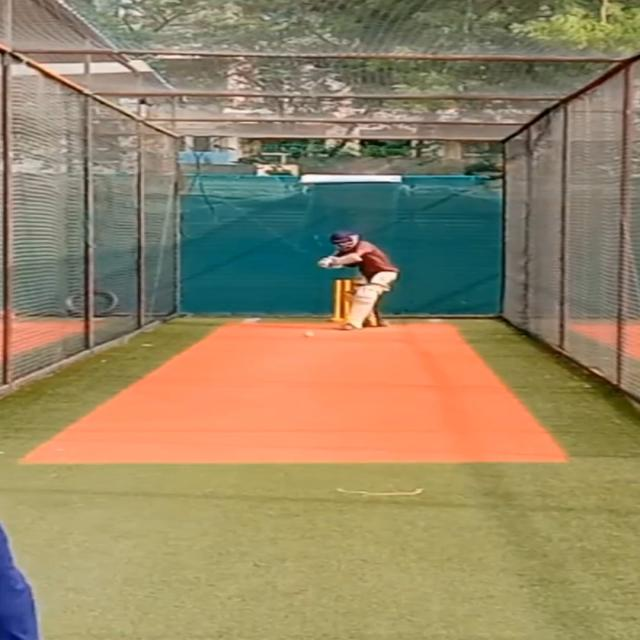ball: (303, 330, 317, 339)
stump: (329, 279, 354, 323)
